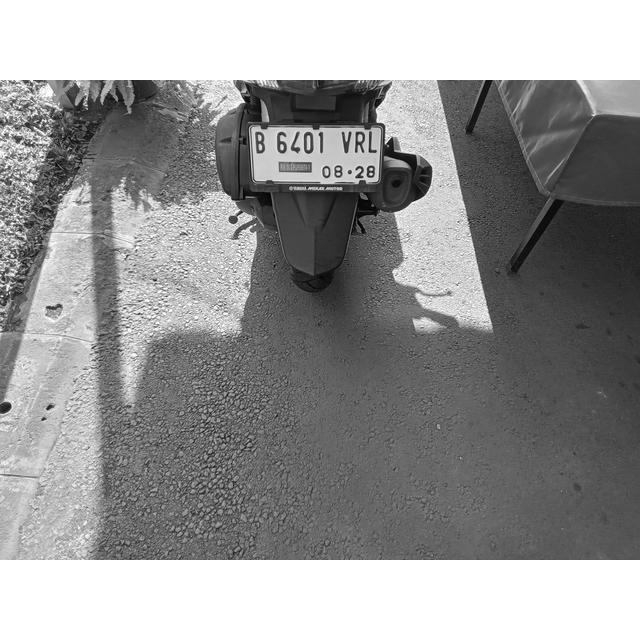license: (254, 129, 379, 181)
